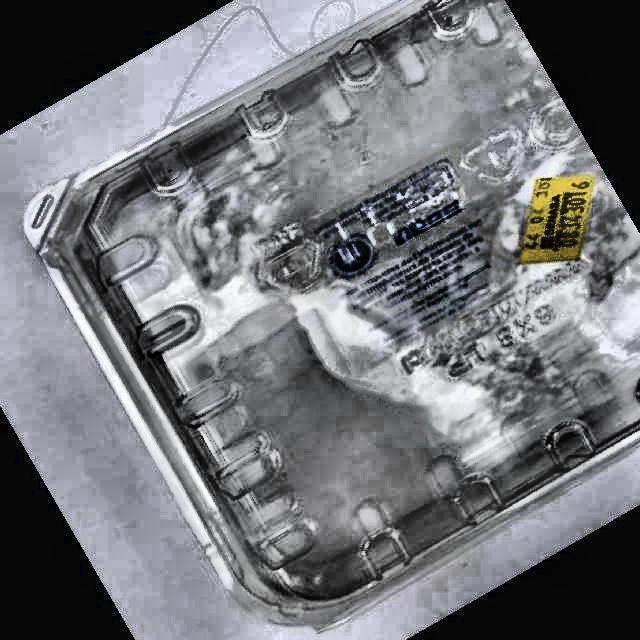plastic: (25, 0, 640, 627)
